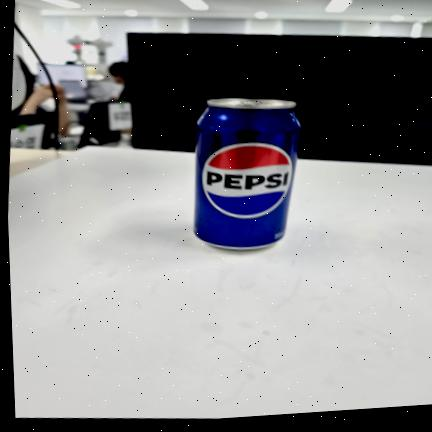can_pepsi: (193, 97, 300, 249)
